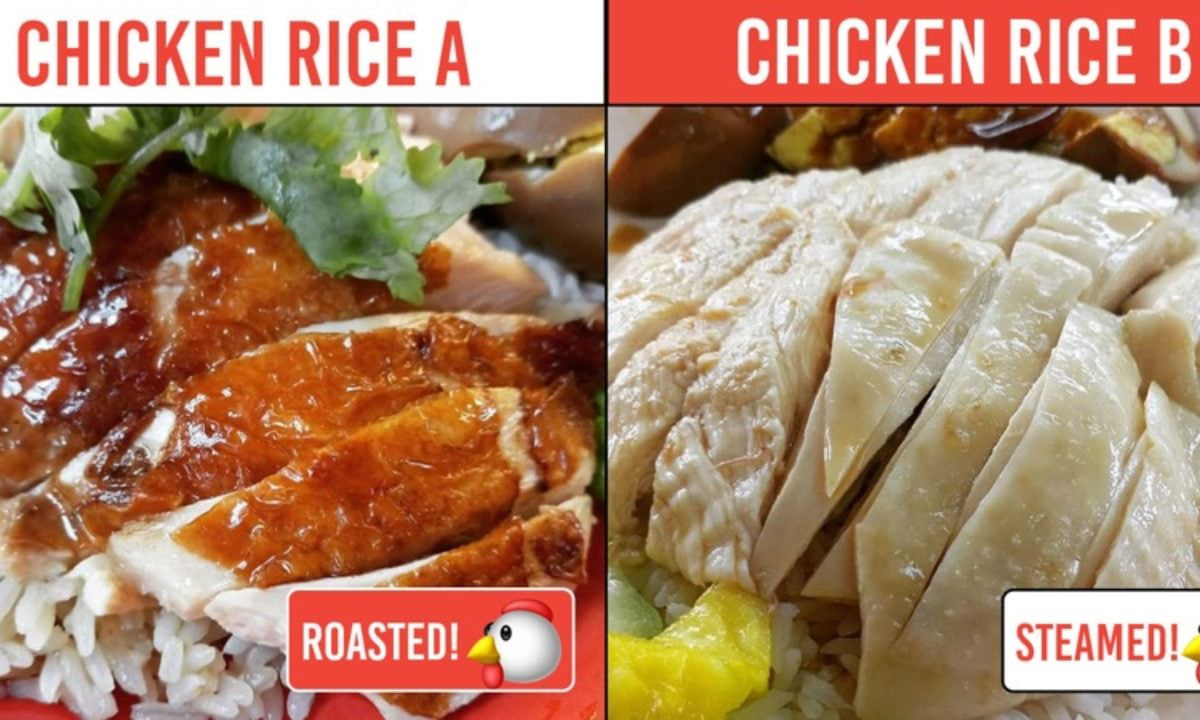Steamed Chicken Rice: (619, 167, 1186, 585)
